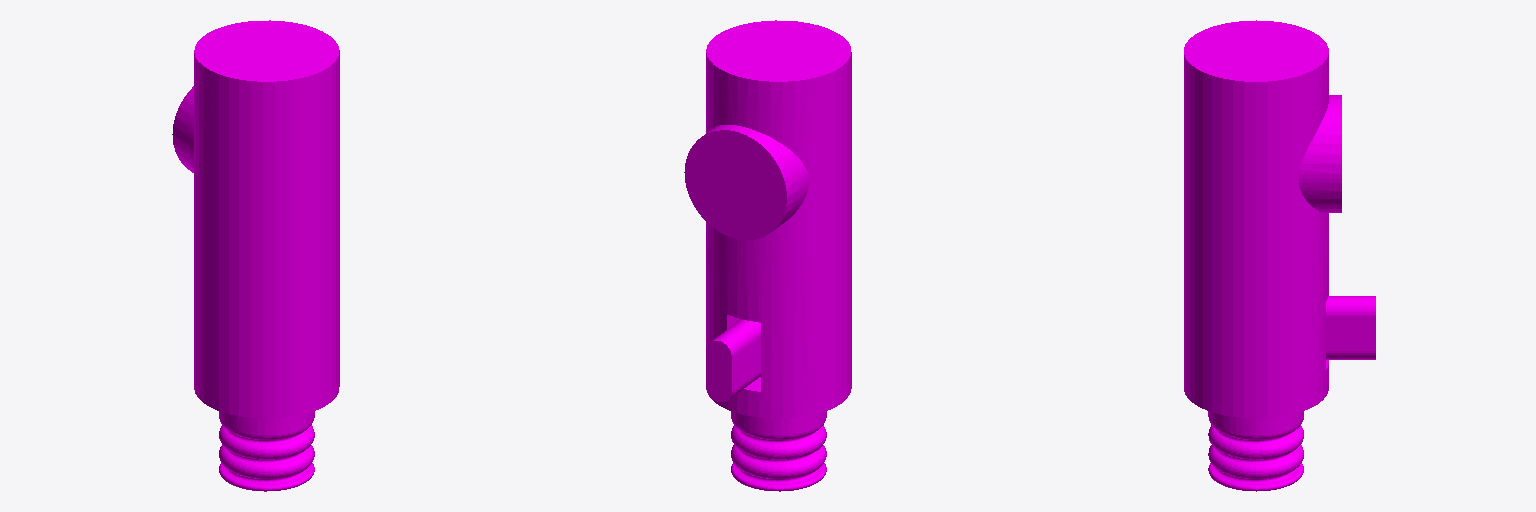
The robot description file, URDF, robot "mycobot_ai":
<?xml version="1.0"?>
<robot xmlns:xacro="http://www.ros.org/wiki/xacro" name="mycobot_ai">
  <material name="white">
    <color rgba="1 0 1 1"/>
  </material>

  <link name="env">
    <visual>
      <geometry>
        <!--- 0.0 0 -0.04  1.5708 3.14159-->
        <mesh filename="package://robot_description/urdf/suit_env_v2.dae"/>
      </geometry>
      <!-- <origin xyz = "0 0 -0.02 " rpy = "1.5708 0 -1.5708"/> -->
      <origin xyz = "0.16 0 0.0 " rpy = "0 0 3.14159"/>
    </visual>
    <collision>
      <geometry>
        <!--- 0.0 0 -0.04  1.5708 3.14159-->
        <mesh filename="package://robot_description/urdf/suit_env_v2.dae"/>
      </geometry>
      <!-- <origin xyz = "0 0 -0.02 " rpy = "1.5708 0 -1.5708"/> -->
      <origin xyz = "0.16 0 0.0 " rpy = "0 0 3.14159"/>
    </collision>
  </link>

  <link name="joint1">
    <visual>
      <geometry>
        <!--- 0.0 0 -0.04  1.5708 3.14159-->
        <mesh filename="package://robot_description/urdf/joint1_pi.dae"/>
      </geometry>
      <origin xyz = "0.0 0 0 " rpy = " 0 0 0"/>
    </visual>
    <collision>
      <geometry>
        <!--- 0.0 0 -0.04  1.5708 3.14159-->
        <mesh filename="package://robot_description/urdf/joint1_pi.dae"/>
      </geometry>
      <origin xyz = "0.0 0 0 " rpy = " 0 0 0"/>
    </collision>
  </link>

  <link name="joint2">
    <visual>
      <geometry>
        <mesh filename="package://robot_description/urdf/joint2.dae"/>
      </geometry>
      <origin xyz = "0.0 0 -0.06096 " rpy = " 0 0 -1.5708"/>
    </visual>
    <collision>
      <geometry>
        <mesh filename="package://robot_description/urdf/joint2.dae"/>
      </geometry>
      <origin xyz = "0.0 0 -0.06096 " rpy = " 0 0 -1.5708"/>
    </collision>
  </link>


  <link name="joint3">
    <visual>
      <geometry>
        <mesh filename="package://robot_description/urdf/joint3.dae"/>
      </geometry>
      <origin xyz = "0.0 0 0.03256 " rpy = " 0 -1.5708 0"/>
    </visual>
    <collision>
      <geometry>
        <mesh filename="package://robot_description/urdf/joint3.dae"/>
      </geometry>
      <origin xyz = "0.0 0 0.03256 " rpy = " 0 -1.5708 0"/>
    </collision>
  </link>


  <link name="joint4">
    <visual>
      <geometry>
        <!--- 0.0 0 -0.04 -->
        <mesh filename="package://robot_description/urdf/joint4.dae"/>
      </geometry>
      <origin xyz = "0.0 0 0.03056 " rpy = " 0 -1.5708 0"/>
    </visual>
    <collision>
      <geometry>
        <!--- 0.0 0 -0.04 -->
        <mesh filename="package://robot_description/urdf/joint4.dae"/>
      </geometry>
      <origin xyz = "0.0 0 0.03056 " rpy = " 0 -1.5708 0"/>
    </collision>
  </link>


  <link name="joint5">
    <visual>
      <geometry>
        <!--- 0.0 0 -0.04 -->
        <mesh filename="package://robot_description/urdf/joint5.dae"/>
      </geometry>
      <origin xyz = "0.0 0 -0.03356 " rpy = "0 -1.5708 1.5708"/>
    </visual>
    <collision>
      <geometry>
        <!--- 0.0 0 -0.04 -->
        <mesh filename="package://robot_description/urdf/joint5.dae"/>
      </geometry>
      <origin xyz = "0.0 0 -0.03356 " rpy = "0 -1.5708 1.5708"/>
    </collision>
  </link>


  <link name="joint6">
    <visual>
      <geometry>
        <!--- 0.0 0 -0.04 -->
        <mesh filename="package://robot_description/urdf/joint6.dae"/>
      </geometry>
      <origin xyz = "0 0.00 -0.038 " rpy = " 0 0 0"/>
    </visual>
    <collision>
      <geometry>
        <!--- 0.0 0 -0.04 -->
        <mesh filename="package://robot_description/urdf/joint6.dae"/>
      </geometry>
      <origin xyz = "0 0.00 -0.038 " rpy = " 0 0 0"/>
    </collision>
  </link>


  <link name="joint6_flange">
    <visual>
      <geometry>
        <!--- 0.0 0 -0.04 -->
        <mesh filename="package://robot_description/urdf/joint7.dae"/>
      </geometry>
      <origin xyz = "0.0 0 -0.012 " rpy = " 0 0 0"/>
    </visual>
    <collision>
      <geometry>
        <!--- 0.0 0 -0.04 -->
        <mesh filename="package://robot_description/urdf/joint7.dae"/>
      </geometry>
      <origin xyz = "0.0 0 -0.012 " rpy = " 0 0 0"/>
    </collision>
  </link>

  <link name="suction_pump">
    <visual>
      <geometry>
        <!--- 0.0 0 -0.04 -->
        <mesh filename="package://robot_description/urdf/SuctionPump.STL"/>
      </geometry>
      <material name="white"/>
      <origin xyz = "0 0 0" rpy = " 0 0 0"/>
    </visual>
    <collision>
      <geometry>
        <!--- 0.0 0 -0.04 -->
        <mesh filename="package://robot_description/urdf/SuctionPump.STL"/>
      </geometry>
      <origin xyz = "0 0 0" rpy = " 0 0 0"/>
    </collision>
  </link>



  <joint name="joint2_to_joint1" type="revolute">
    <axis xyz="0 0 1"/>
    <limit effort = "1000.0" lower = "-3.14" upper = "3.14159" velocity = "0"/>
    <parent link="joint1"/>
    <child link="joint2"/>
    <origin xyz= "0 0 0.13156" rpy = "0 0 0"/>
  </joint>

  <joint name="joint3_to_joint2" type="revolute">
    <axis xyz="0 0 1"/>
    <limit effort = "1000.0" lower = "-3.14" upper = "3.14159" velocity = "0"/>
    <parent link="joint2"/>
    <child link="joint3"/>
    <origin xyz= "0 0  0" rpy = "0 1.5708 -1.5708"/>
  </joint>


  <joint name="joint4_to_joint3" type="revolute">
    <axis xyz=" 0 0 1"/>
    <limit effort = "1000.0" lower = "-3.14" upper = "3.14159" velocity = "0"/>
    <parent link="joint3"/>
    <child link="joint4"/>
    <origin xyz= "  -0.1104 0 0   " rpy = "0 0 0"/>
  </joint>



  <joint name="joint5_to_joint4" type="revolute">
    <axis xyz=" 0 0 1"/>
    <limit effort = "1000.0" lower = "-3.14" upper = "3.14159" velocity = "0"/>
    <parent link="joint4"/>
    <child link="joint5"/>
    <origin xyz= "-0.096 0 0.06462" rpy = "0 0 -1.5708"/>
  </joint>

  <joint name="joint6_to_joint5" type="revolute">
    <axis xyz="0 0 1"/>
    <limit effort = "1000.0" lower = "-3.14" upper = "3.14159" velocity = "0"/>
    <parent link="joint5"/>
    <child link="joint6"/>
    <origin xyz= "0 -0.07318 0" rpy = "1.5708 -1.5708 0"/>
  </joint>

  <joint name="joint6output_to_joint6" type="revolute">
    <axis xyz="0 0 1"/>
    <limit effort = "1000.0" lower = "-3.14" upper = "3.14159" velocity = "0"/>
    <parent link="joint6"/>
    <child link="joint6_flange"/>
    <origin xyz= "0 0.0456 0" rpy = "-1.5708 0 0"/>
  </joint>
  
  <joint name="joint6output_to_suction_pump" type="fixed">
    <axis xyz="0 0 0"/>
    <limit effort = "1000.0" lower = "-3.14" upper = "3.14159" velocity = "0"/>
    <parent link="joint6_flange"/>
    <child link="suction_pump"/>
    <origin xyz= "0 0.30 0.30" rpy = "0 0 0"/>
  </joint>

  <joint name="vision_joint" type="fixed">
    <axis xyz="0 0 0"/>
    <limit effort = "1000.0" lower = "-3.14" upper = "3.14159" velocity = "0"/>
    <parent link="joint1"/>
    <child link="env"/>
    <origin xyz= "0 0 0" rpy = "0 0 0"/>
  </joint>

</robot>

--- What the picture shows (computed from the rendered views, not written in the file) ---
Views: 3 orthographic renders of the robot side by side, from view 1: azimuth 30°, elevation 25°; view 2: azimuth 150°, elevation 25°; view 3: azimuth 270°, elevation 25°.
Robot: mycobot_ai — 9 links, 8 joints (6 revolute, 2 fixed); root link joint1; default pose: every joint at zero.
Links seen in each view (by area): view 1: suction_pump; view 2: suction_pump; view 3: suction_pump.
Link boxes in pixels (<box>): suction_pump: <box>172,20,339,491</box>; suction_pump: <box>684,20,851,491</box>; suction_pump: <box>1184,20,1375,491</box>.
Bounding box of the posed robot: 24.64 × 32.6 × 78.74 m (x, y, z).
1 mesh visuals loaded from 9 distinct referenced files (1 binary STL); not drawn: 8 (reference not matched to a file when rendering).